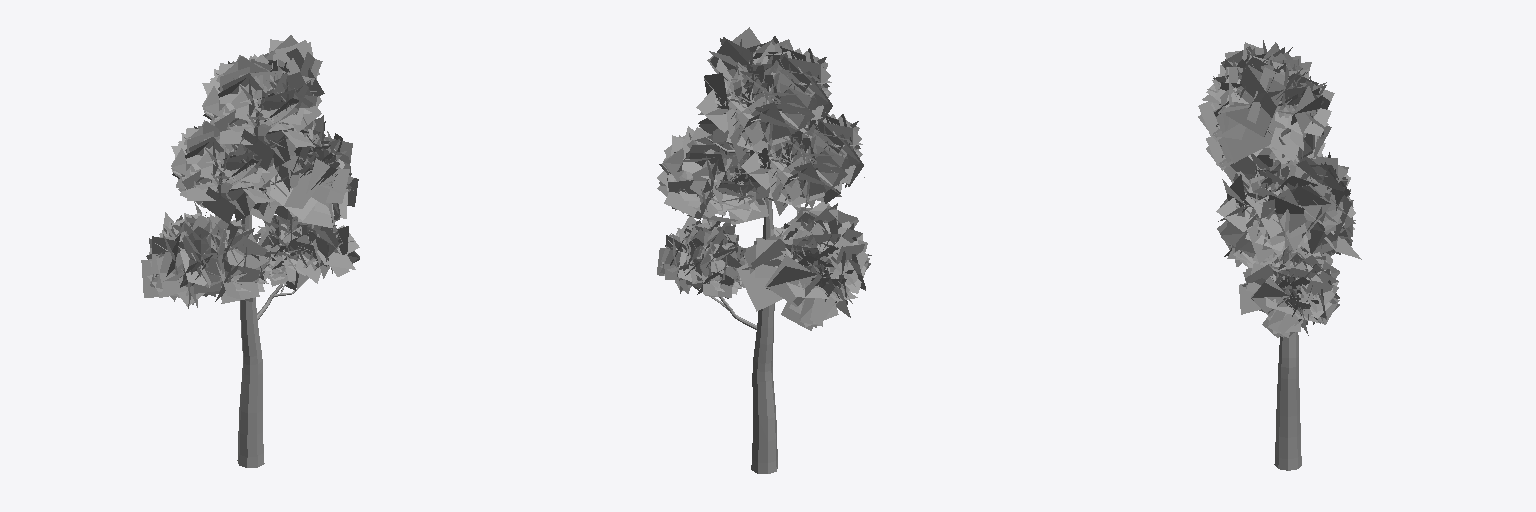
File: BirchTree_1.obj
3 renders of one model, left to right at view 1: azimuth 30°, elevation 25°; view 2: azimuth 150°, elevation 25°; view 3: azimuth 270°, elevation 25°, orthographic.
Parts seen in each view (by area): view 1: BirchTree_1_Cube.004; view 2: BirchTree_1_Cube.004; view 3: BirchTree_1_Cube.004.
Boxes of the visible parts, <box> form: BirchTree_1_Cube.004: <box>141,35,359,467</box>; BirchTree_1_Cube.004: <box>657,27,871,473</box>; BirchTree_1_Cube.004: <box>1198,40,1361,470</box>.
Bounding box in the file's own units: 2.71 × 5.45 × 1.94.